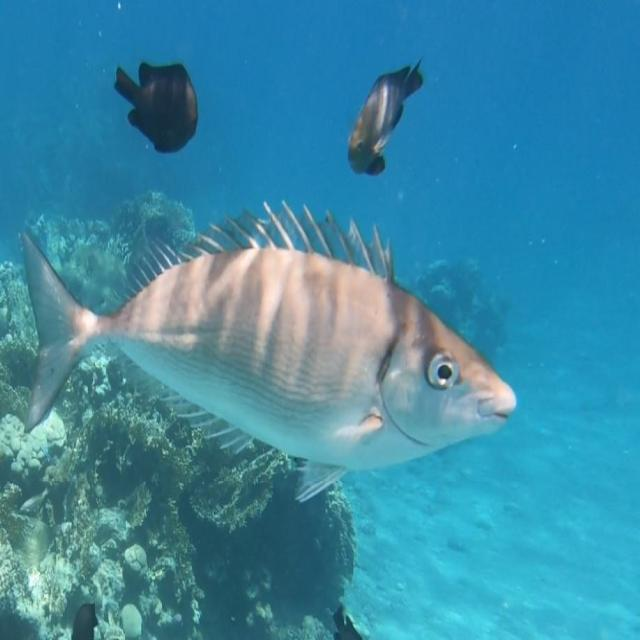Sokar Baligi: (11, 192, 540, 514)
